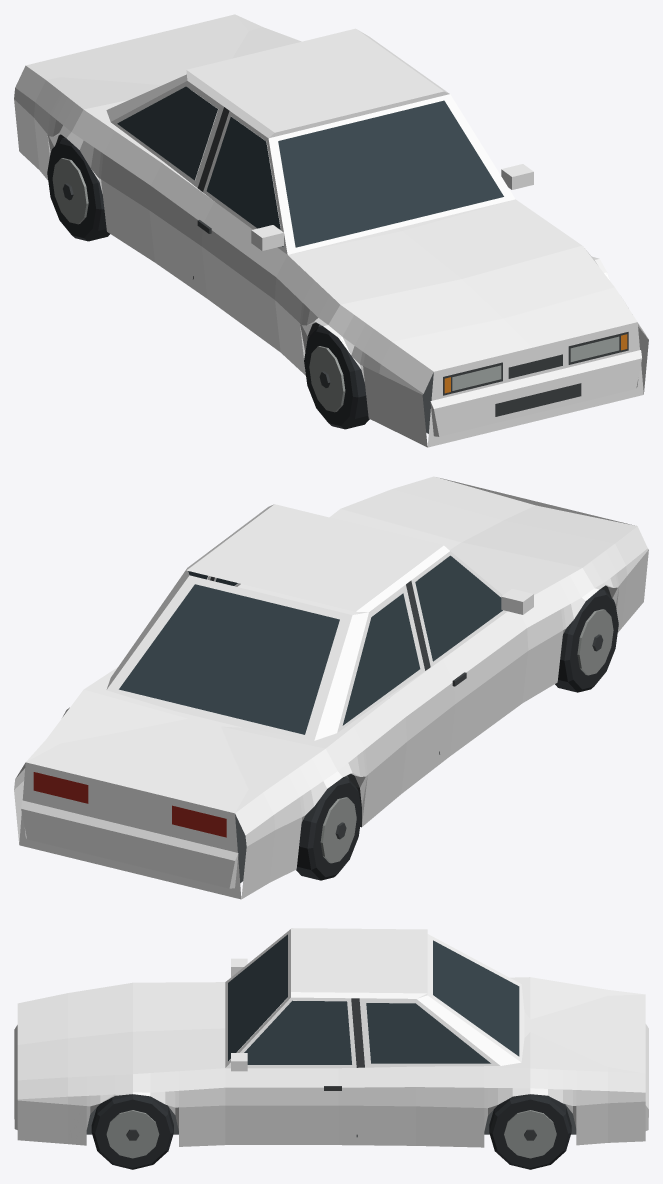
Rendered from castellani_torrente.glb.
3 renders of one model, top to bottom at view 1: azimuth 30°, elevation 25°; view 2: azimuth 150°, elevation 25°; view 3: azimuth 270°, elevation 25°, orthographic. The views are drawn at different scales.
Visible parts, largest first — view 1: castellani_torrente; view 2: castellani_torrente; view 3: castellani_torrente.
Boxes of the visible parts, box(x1,y1,x2,y2) form: castellani_torrente: box(14, 14, 648, 447); castellani_torrente: box(14, 476, 648, 899); castellani_torrente: box(14, 928, 648, 1169).
Bounding box in the file's own units: 1.77 × 1.27 × 4.55.
Materials: 8 (1 with a texture image).
